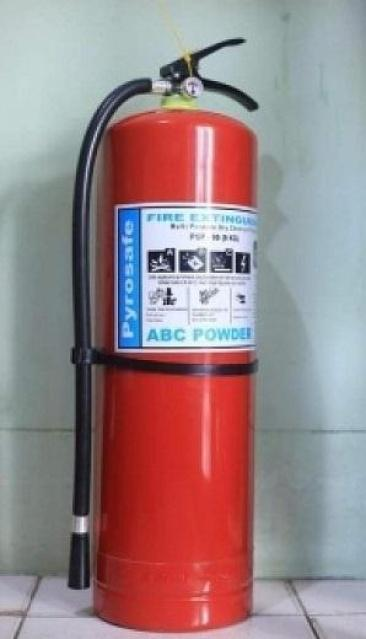APAR: (90, 36, 261, 633)
